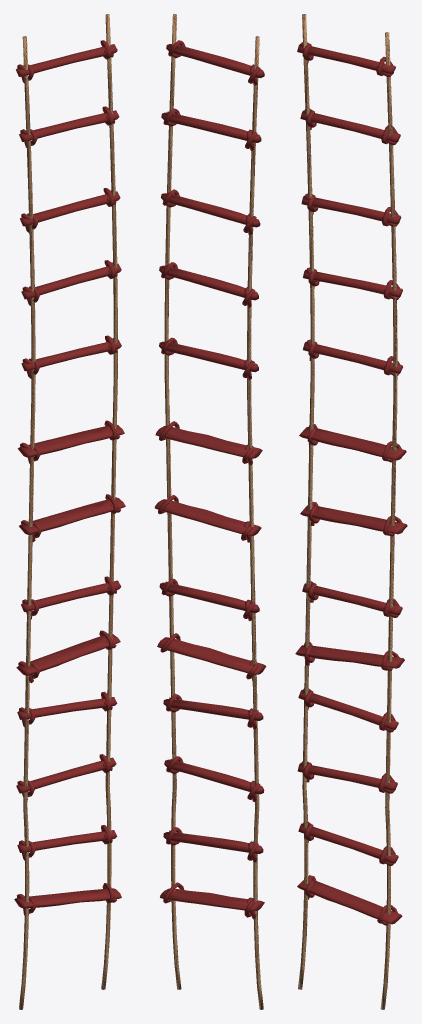
File: SM_ladder.fbx
The picture shows the model from 3 angles, left to right: view 1: azimuth 30°, elevation 25°; view 2: azimuth 150°, elevation 25°; view 3: azimuth 330°, elevation 25°; orthographic projection.
Parts seen in each view (by area): view 1: ladder; view 2: ladder; view 3: ladder.
Boxes of the visible parts, box(x1,y1,x2,y2) form: ladder: box(14, 14, 125, 1009); ladder: box(154, 14, 266, 1009); ladder: box(295, 14, 407, 1009).
Bounding box in the file's own units: 147 × 1322 × 40.09.
